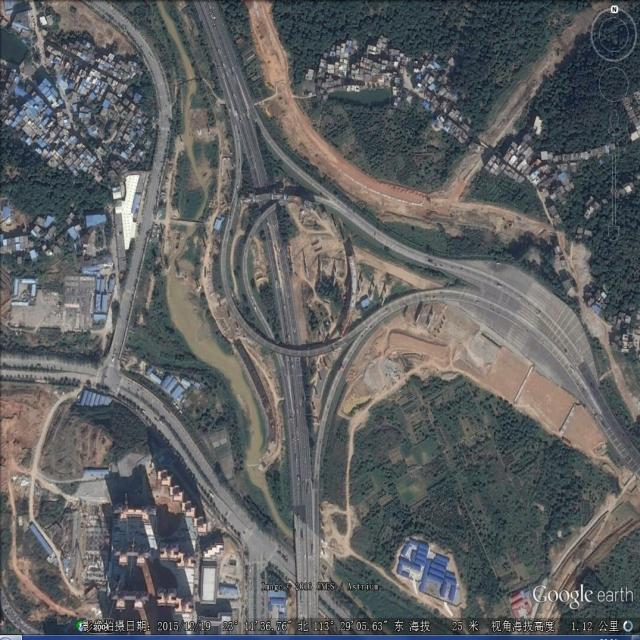overpass: (217, 110, 385, 484)
